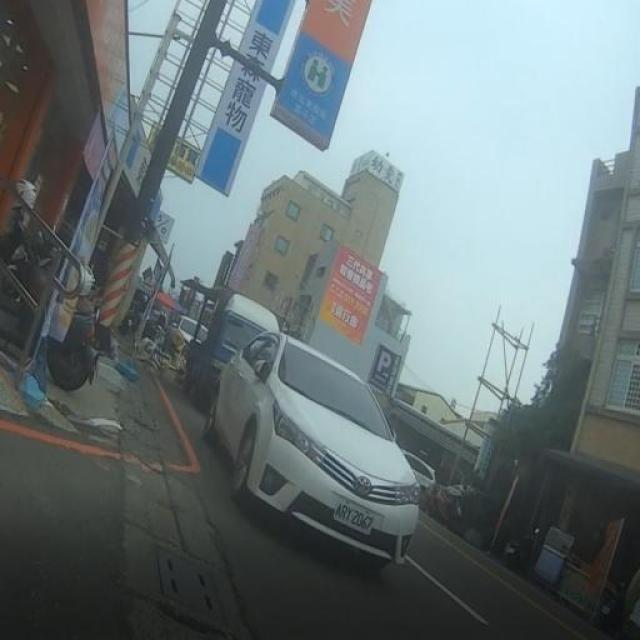Legalparking: (160, 242, 473, 606)
